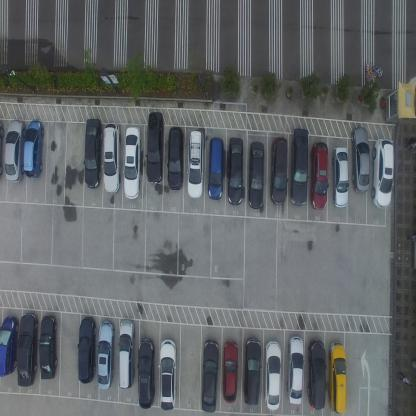car: (17, 311, 38, 388), (289, 127, 309, 207), (372, 137, 394, 209), (327, 341, 348, 415), (3, 117, 26, 183), (158, 337, 178, 412), (145, 111, 165, 185), (102, 121, 122, 194), (123, 125, 142, 200), (200, 338, 219, 413), (83, 118, 103, 189), (350, 125, 370, 196), (137, 335, 155, 409), (22, 120, 44, 180), (310, 140, 328, 212), (97, 318, 115, 390), (307, 339, 325, 410), (226, 136, 244, 206), (270, 136, 288, 205), (187, 127, 204, 200), (118, 320, 136, 388), (0, 314, 19, 378), (264, 340, 281, 411), (78, 316, 96, 383), (40, 313, 58, 380), (244, 337, 261, 407), (331, 145, 349, 209), (287, 335, 303, 406), (167, 125, 183, 192), (249, 140, 264, 211), (208, 136, 224, 200), (222, 340, 238, 403)
